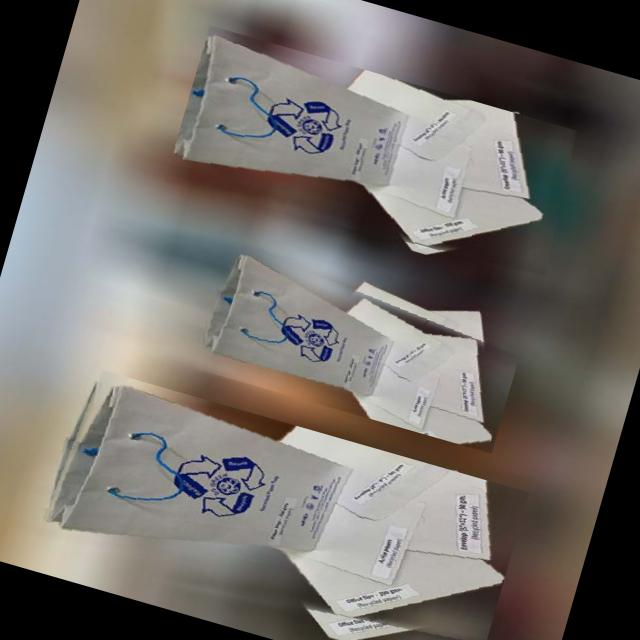PaperCardboard: (44, 382, 506, 613), (175, 34, 559, 245), (201, 253, 497, 439)
